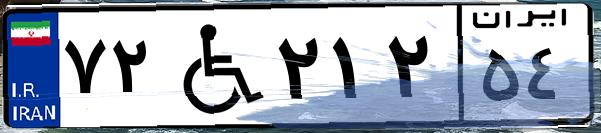1: (330, 28, 385, 110)
2: (270, 28, 330, 110), (385, 28, 445, 110), (110, 28, 158, 98)
4: (525, 38, 570, 115)
5: (475, 38, 525, 113)
7: (57, 26, 110, 100)
ژ (معلولین و جانبازان): (158, 12, 270, 120)
